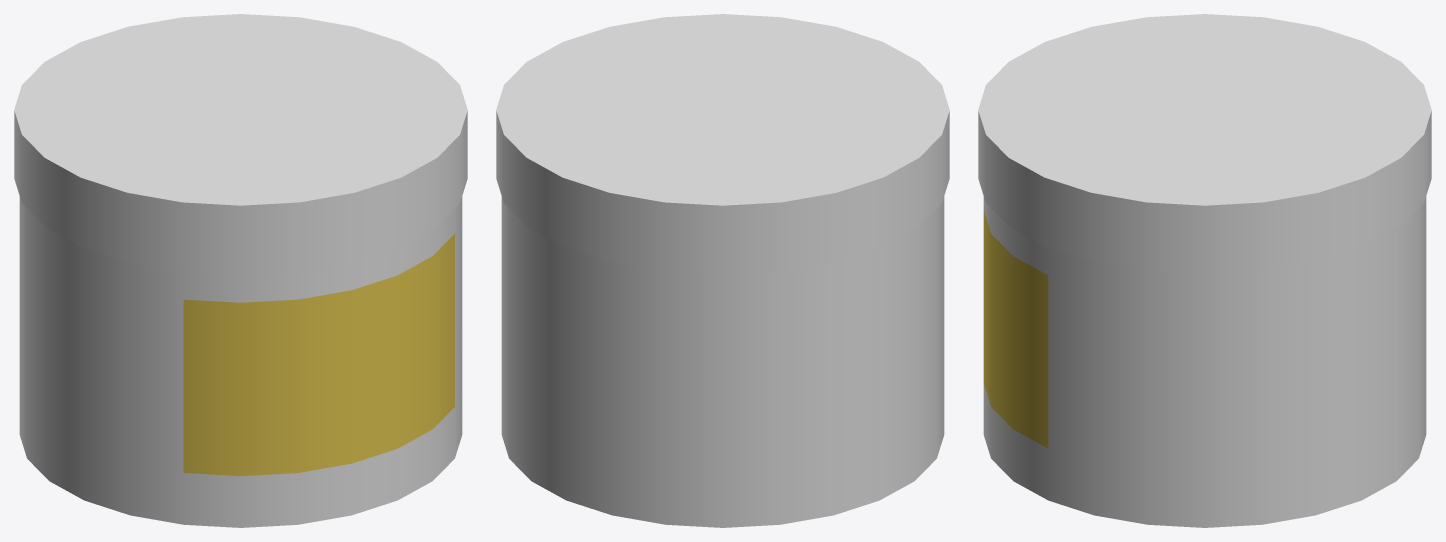
Rendered from 2 jar.fbx.
The picture shows the model from 3 angles, left to right: view 1: azimuth 30°, elevation 25°; view 2: azimuth 150°, elevation 25°; view 3: azimuth 270°, elevation 25°; orthographic projection.
Parts seen in each view (by area): view 1: 2 jar; view 2: 2 jar; view 3: 2 jar.
Part boxes in pixels (<box>): 2 jar: <box>14,14,467,527</box>; 2 jar: <box>496,14,949,527</box>; 2 jar: <box>978,14,1431,527</box>.
Size of the model in its own units: 8.67 by 6.84 by 8.67.
